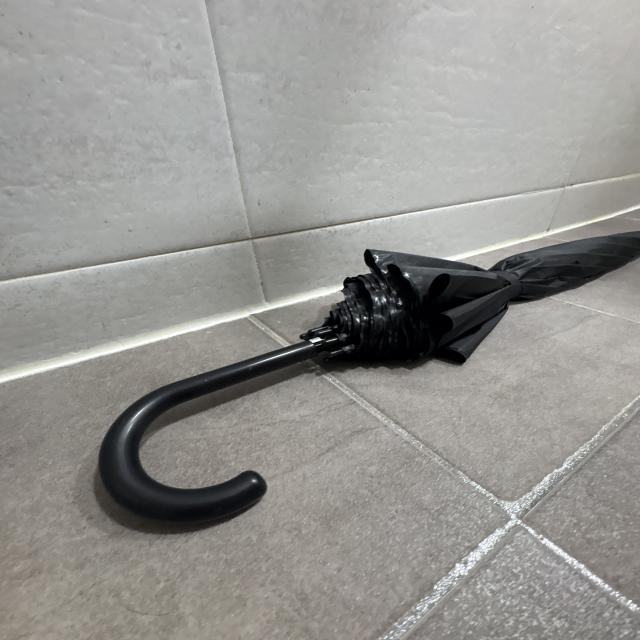umbrella: (97, 228, 640, 522)
